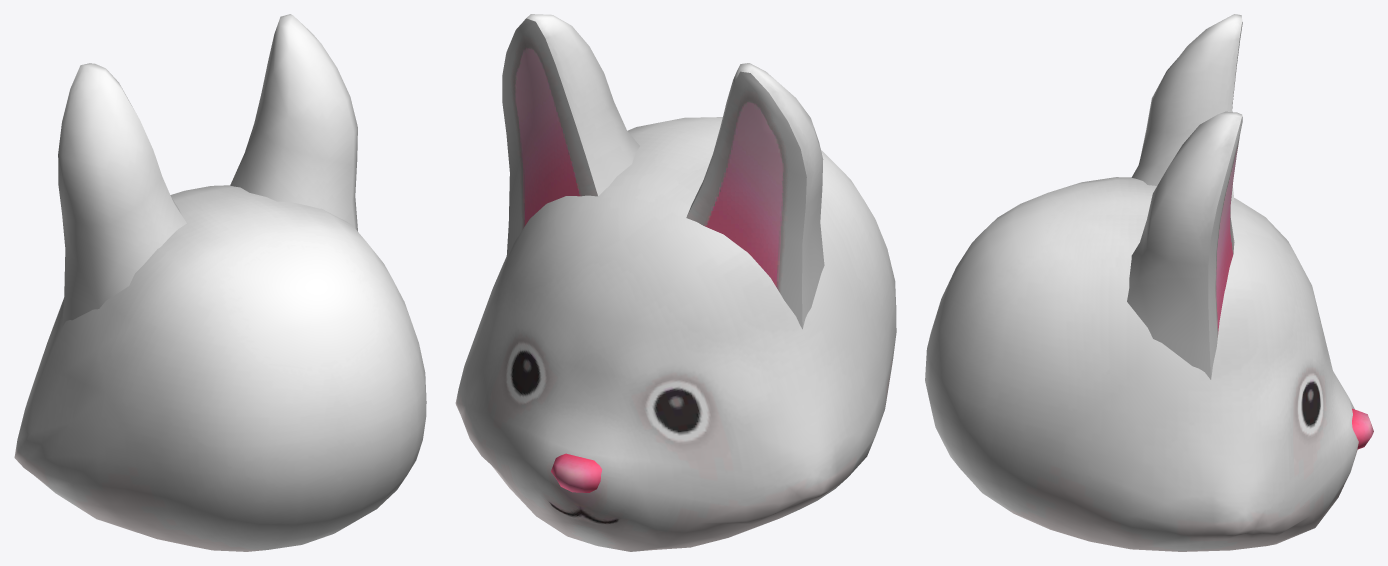
The model's file is Rabbit.glb.
3 renders of one model, left to right at view 1: azimuth 30°, elevation 25°; view 2: azimuth 150°, elevation 25°; view 3: azimuth 270°, elevation 25°, orthographic. The views are drawn at different scales.
Parts seen in each view (by area): view 1: Rabbit; view 2: Rabbit; view 3: Rabbit.
Part boxes in pixels (x1=…): Rabbit: x1=14, y1=14, x2=426, y2=551; Rabbit: x1=455, y1=14, x2=896, y2=551; Rabbit: x1=925, y1=14, x2=1373, y2=551.
Size of the model in its own units: 0.793 by 0.9993 by 0.8847.
1 material, 1 textured.
